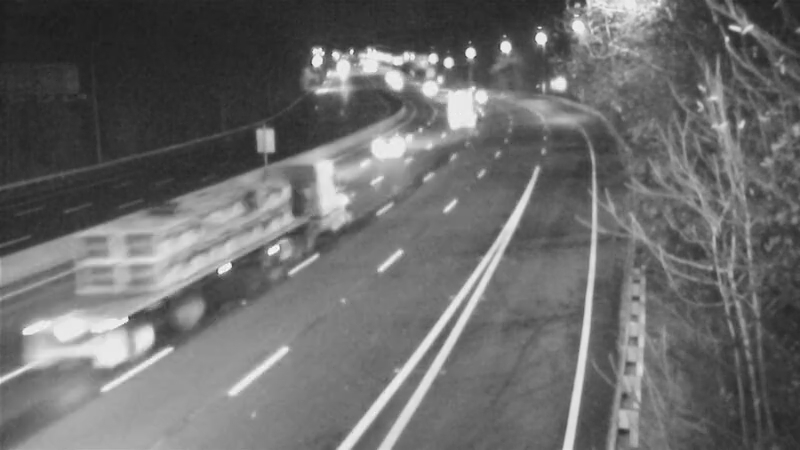vehicle: (179, 205, 259, 285), (372, 60, 422, 110), (403, 63, 453, 113), (456, 68, 506, 118), (434, 81, 484, 131), (371, 121, 421, 171)
